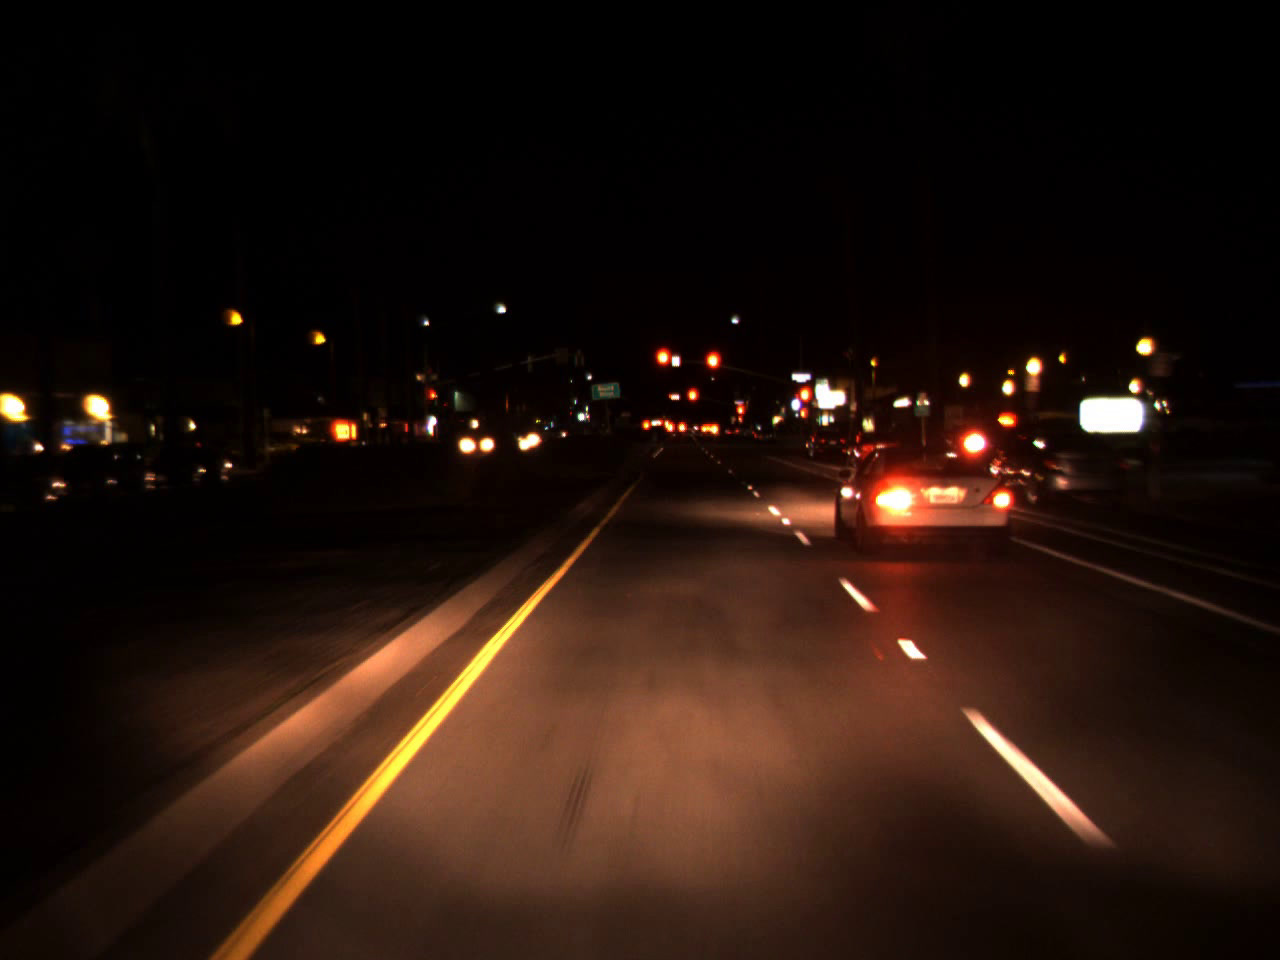stop: (792, 382, 816, 425), (653, 345, 675, 385), (703, 349, 722, 389), (685, 386, 698, 415), (735, 401, 745, 428), (428, 388, 437, 409)
